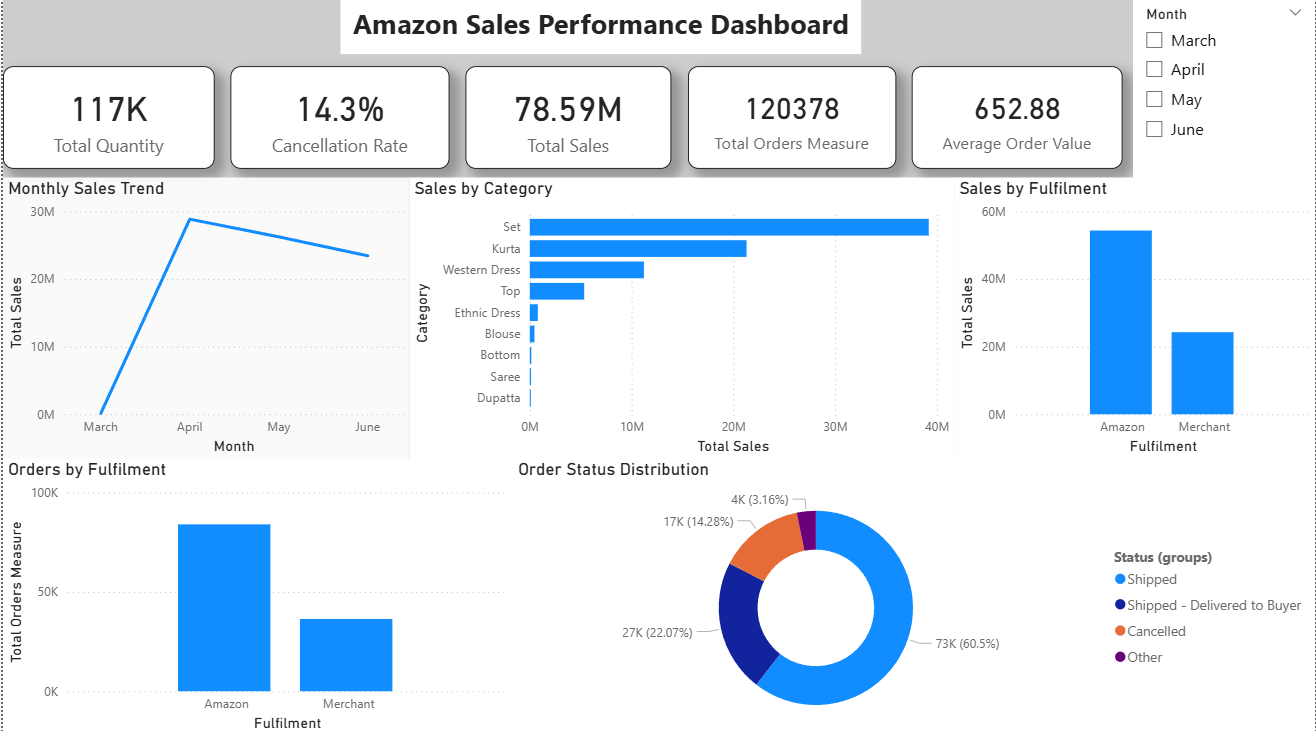

This screenshot's page, from the dashboard's own definition file:
{"tool":"powerbi","page":{"name":"Page 1","canvas":[1280,720],"ordinal":0},"visuals":[{"type":"card","fields":{"Values":["Amazon Sale Report.Total Sales"]},"box":[451.8,64.5,200.5,100.3],"z":1000},{"type":"card","fields":{"Values":["Amazon Sale Report.Total Orders Measure"]},"box":[667.9,64.5,203,100.3],"z":2000},{"type":"card","fields":{"Values":["Amazon Sale Report.Total Quantity"]},"box":[0,64.5,206.7,100.3],"z":3000},{"type":"card","fields":{"Values":["Amazon Sale Report.Average Order Value"]},"box":[886.5,64.5,205.8,100.2],"z":4000},{"type":"card","fields":{"Values":["Amazon Sale Report.Cancellation Rate"]},"box":[222.2,64.5,214,100.3],"z":5000},{"type":"lineChart","title":"Monthly Sales Trend","fields":{"Category":["DateTable.Month"],"Y":["Amazon Sale Report.Total Sales"]},"box":[0,173.6,395.8,275],"z":6000},{"type":"clusteredBarChart","title":"Sales by Category","fields":{"Category":["Amazon Sale Report.Category"],"Y":["Amazon Sale Report.Total Sales"]},"box":[395.8,173.6,531.9,275],"z":7000},{"type":"clusteredColumnChart","title":"Sales by Fulfilment","fields":{"Y":["Amazon Sale Report.Total Sales"],"Category":["Amazon Sale Report.Fulfilment"]},"box":[927.8,173.6,352.8,275],"z":8000},{"type":"clusteredColumnChart","title":"Orders by Fulfilment","fields":{"Category":["Amazon Sale Report.Fulfilment"],"Y":["Amazon Sale Report.Total Orders Measure"]},"box":[0,447.2,497.2,270.8],"z":9000},{"type":"donutChart","title":"Order Status Distribution","fields":{"Y":["Amazon Sale Report.Total Orders Measure"],"Category":["Amazon Sale Report.Status (groups)"]},"box":[497.2,447.2,783.3,272.2],"z":10000},{"type":"slicer","fields":{"Values":["DateTable.Month"]},"box":[1102.8,0,177.8,173.6],"z":11000},{"type":"textbox","box":[329.2,0,508.3,52.8],"z":12000}]}

Visuals, with their boxes in screenshot pixels (x1, y1, x2, y2), scaled from the page's 1280x720 canvas onto the 1316x731 screenshot:
card - Amazon Sale Report.Total Sales: (x1=465, y1=65, x2=671, y2=167)
card - Amazon Sale Report.Total Orders Measure: (x1=687, y1=65, x2=895, y2=167)
card - Amazon Sale Report.Total Quantity: (x1=0, y1=65, x2=213, y2=167)
card - Amazon Sale Report.Average Order Value: (x1=911, y1=65, x2=1123, y2=167)
card - Amazon Sale Report.Cancellation Rate: (x1=228, y1=65, x2=448, y2=167)
"Monthly Sales Trend" lineChart: (x1=0, y1=176, x2=407, y2=455)
"Sales by Category" clusteredBarChart: (x1=407, y1=176, x2=954, y2=455)
"Sales by Fulfilment" clusteredColumnChart: (x1=954, y1=176, x2=1315, y2=455)
"Orders by Fulfilment" clusteredColumnChart: (x1=0, y1=454, x2=511, y2=729)
"Order Status Distribution" donutChart: (x1=511, y1=454, x2=1315, y2=730)
slicer - DateTable.Month: (x1=1134, y1=0, x2=1315, y2=176)
textbox: (x1=338, y1=0, x2=861, y2=54)
